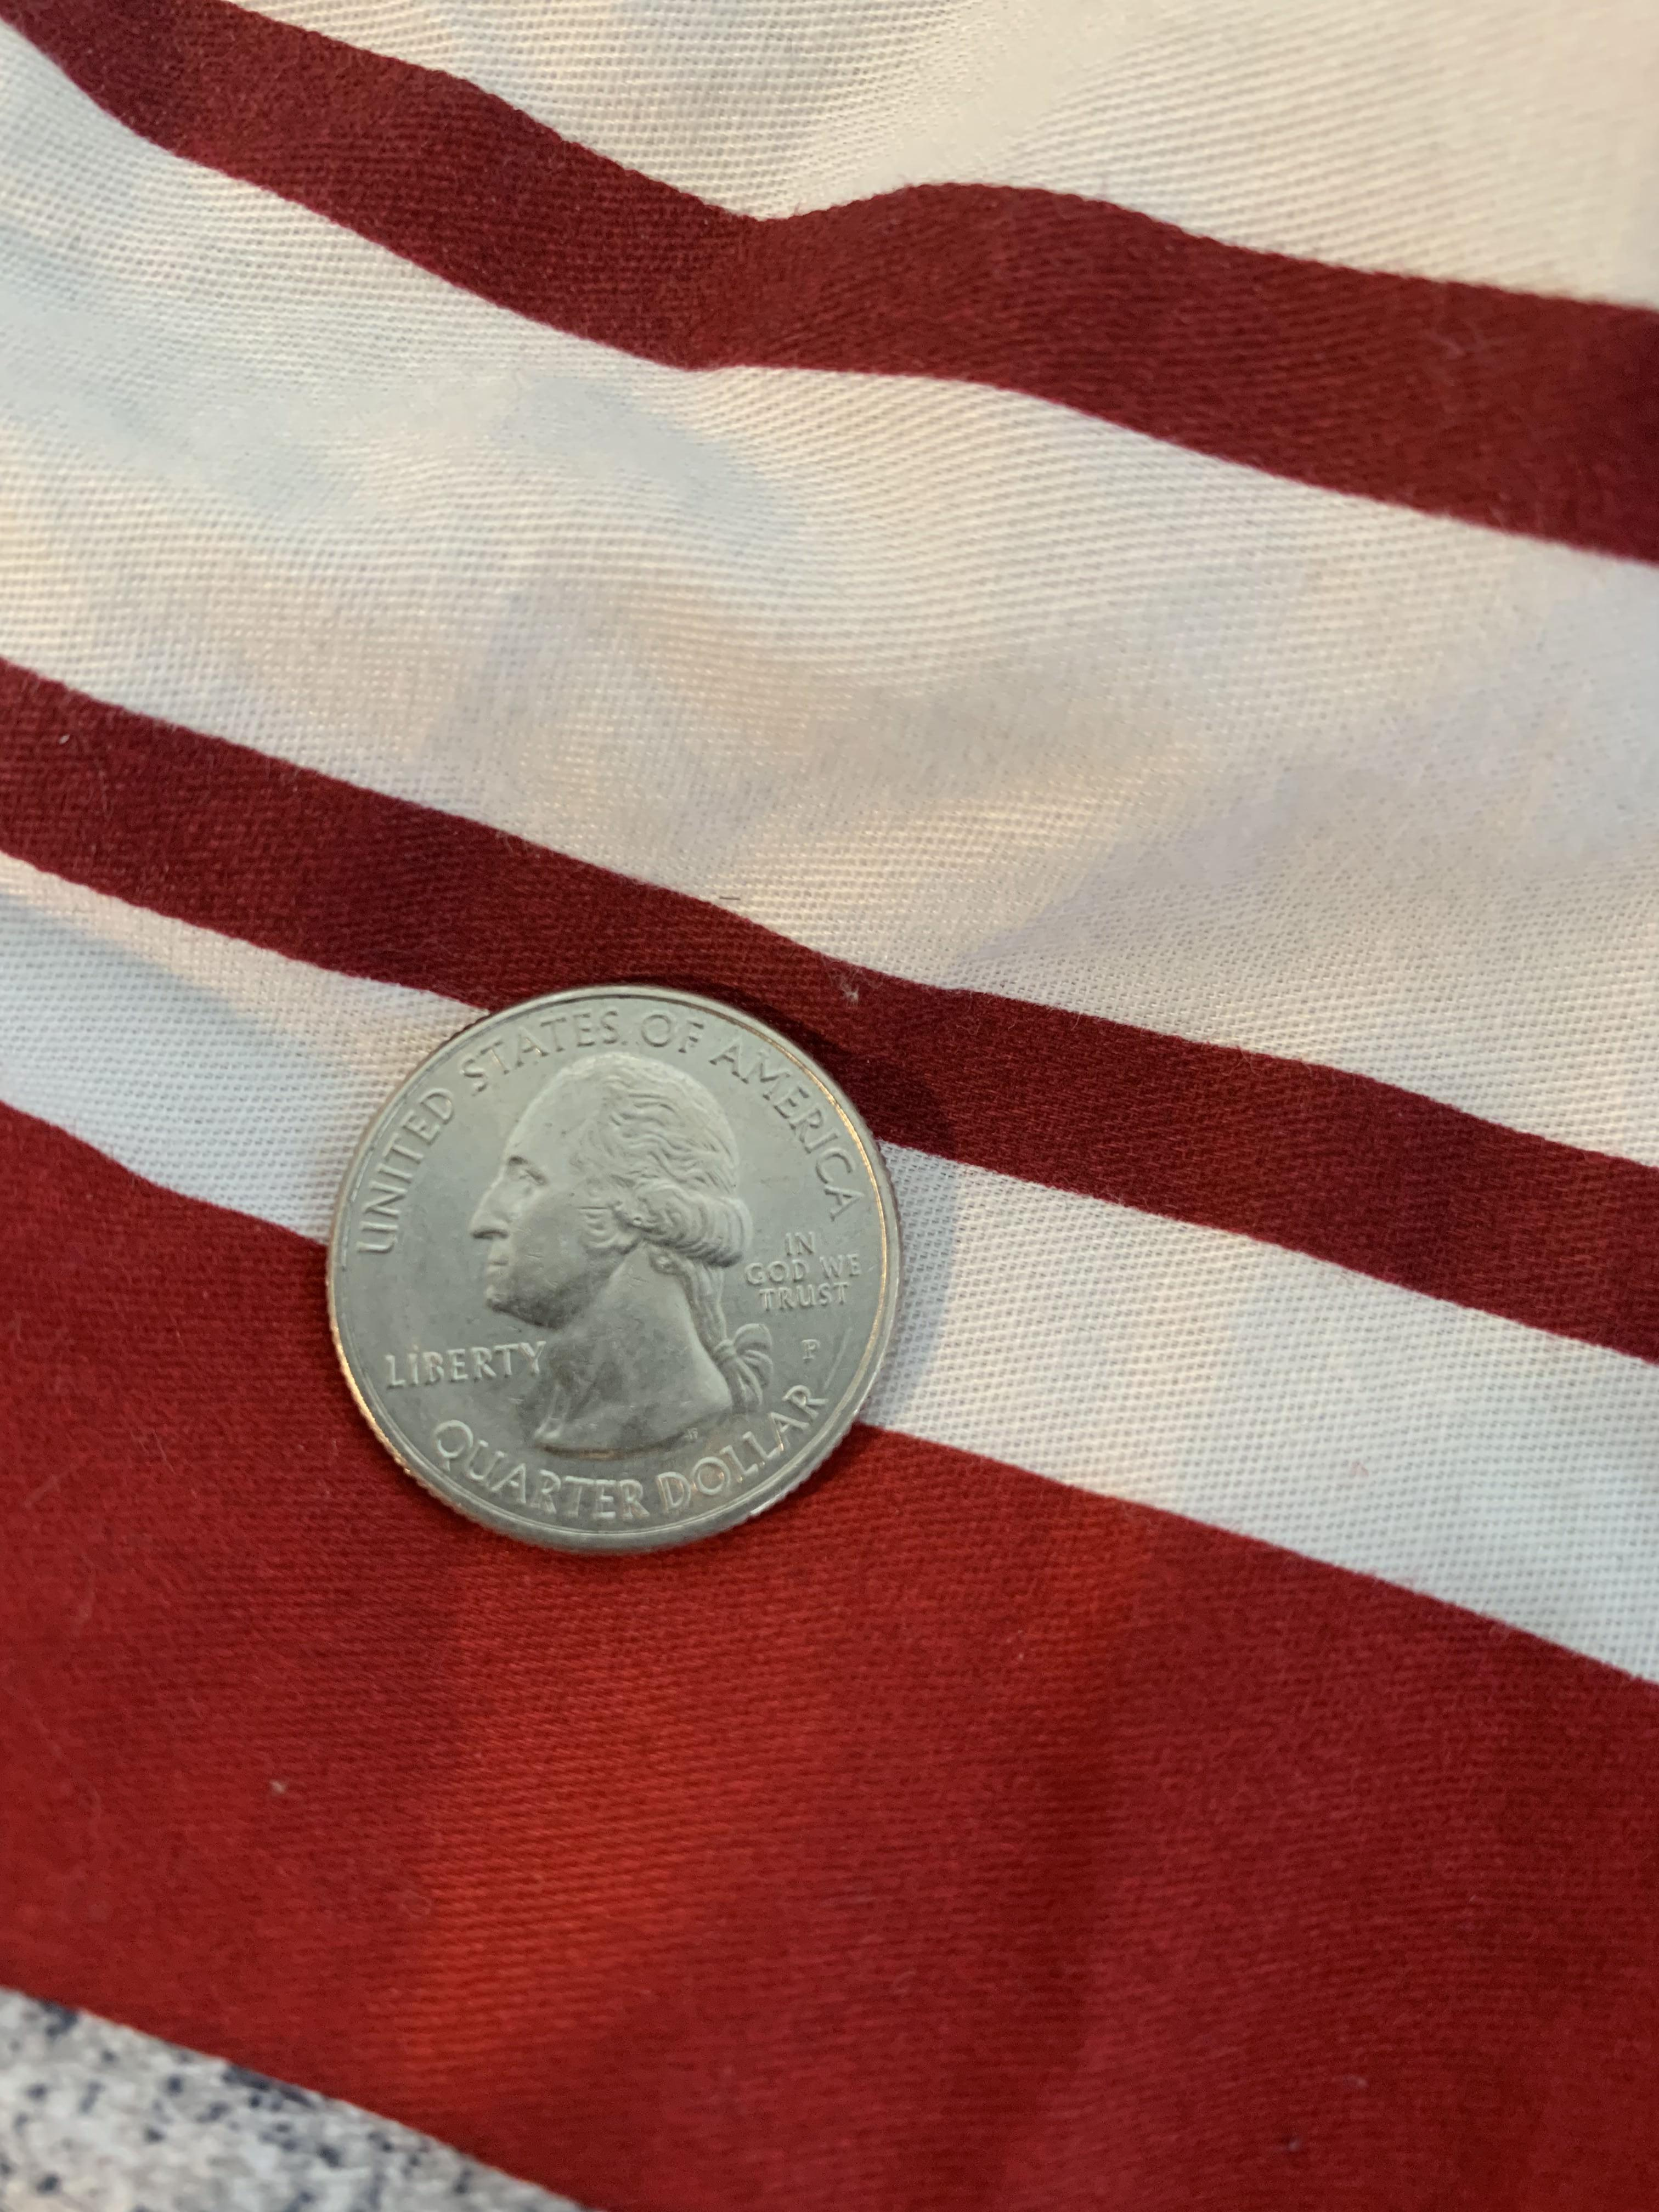Quarter: (307, 965, 927, 1566)
